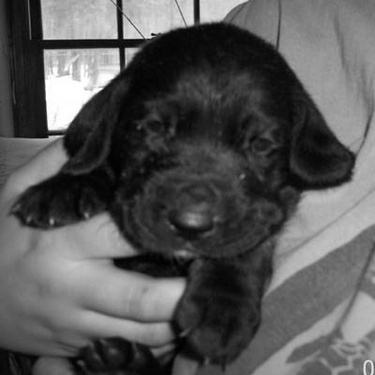dog: (3, 16, 365, 374)
